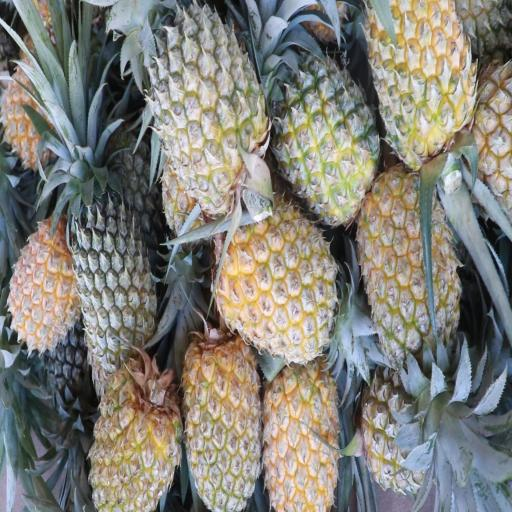------------------------------: (152, 12, 268, 195), (280, 56, 377, 220), (359, 369, 446, 492)
Pineapple - v8 v1: (223, 200, 341, 360), (361, 178, 462, 356), (365, 1, 475, 155), (184, 332, 264, 512), (92, 361, 183, 512), (264, 346, 338, 512), (10, 213, 83, 347), (0, 48, 73, 168)
